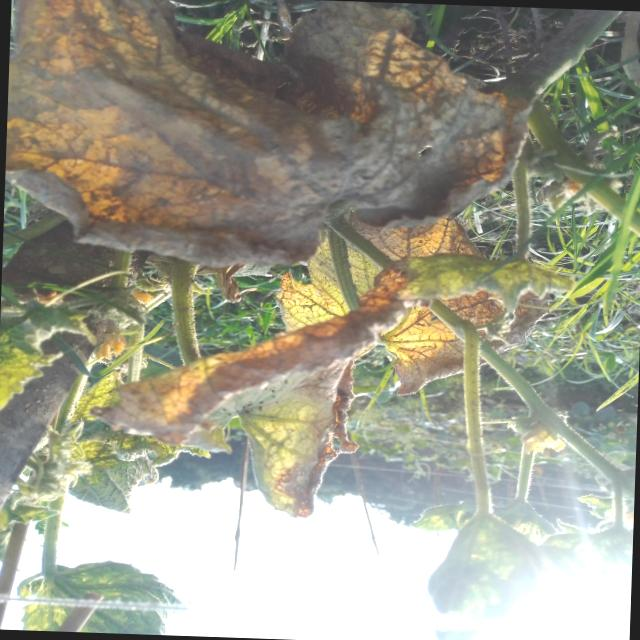cucumber_bacterial: (2, 0, 549, 283), (96, 228, 574, 530), (58, 427, 205, 572), (0, 278, 72, 431)
